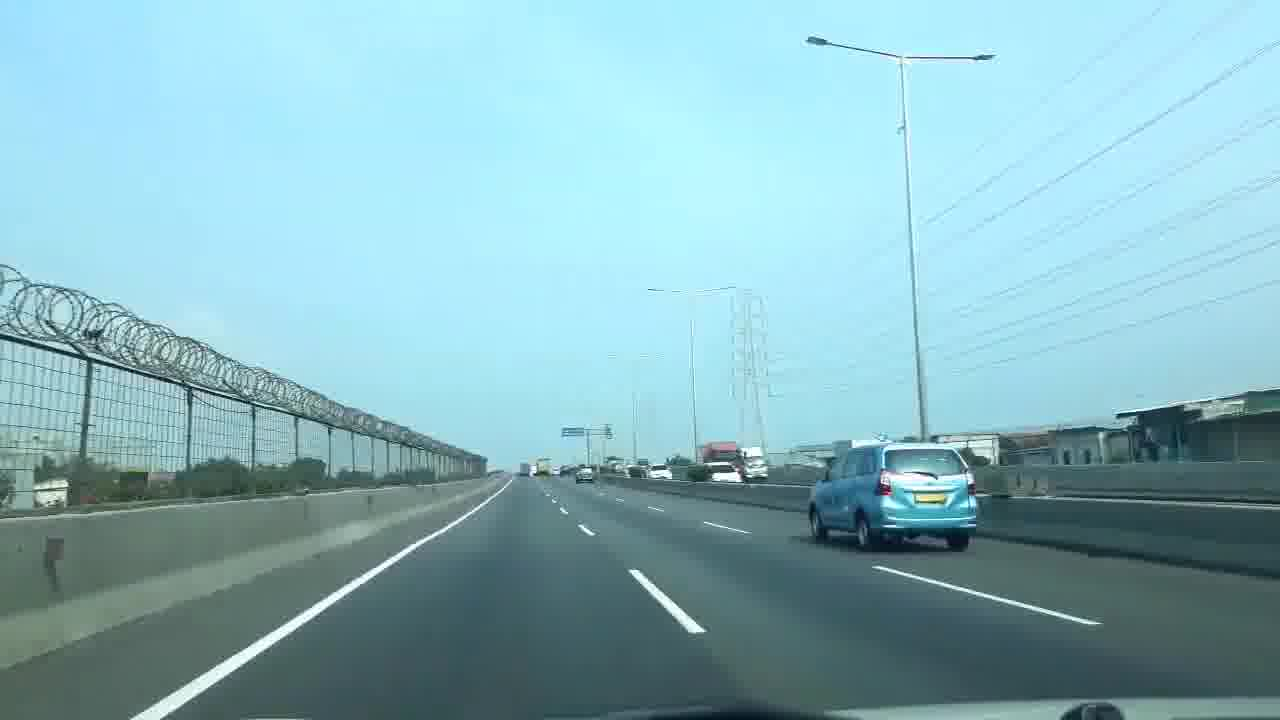plate_positive: (914, 492, 945, 503)
